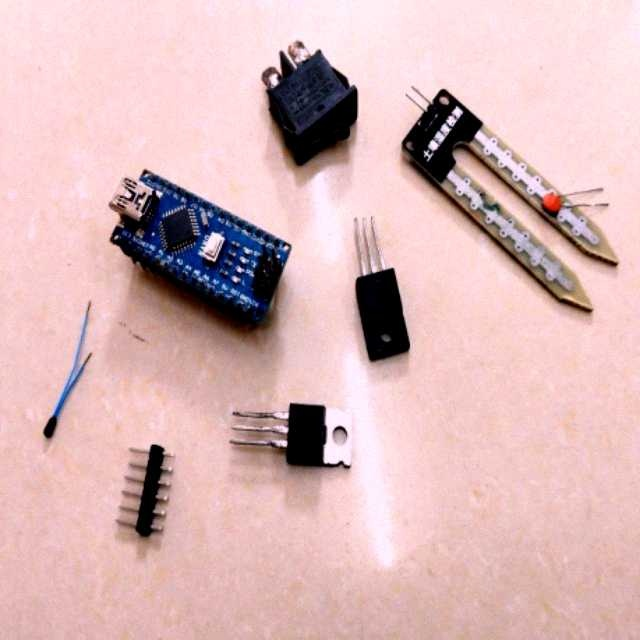capacitor: (542, 193, 561, 217)
